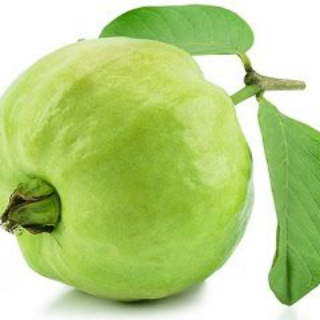oi: (3, 38, 255, 301)
